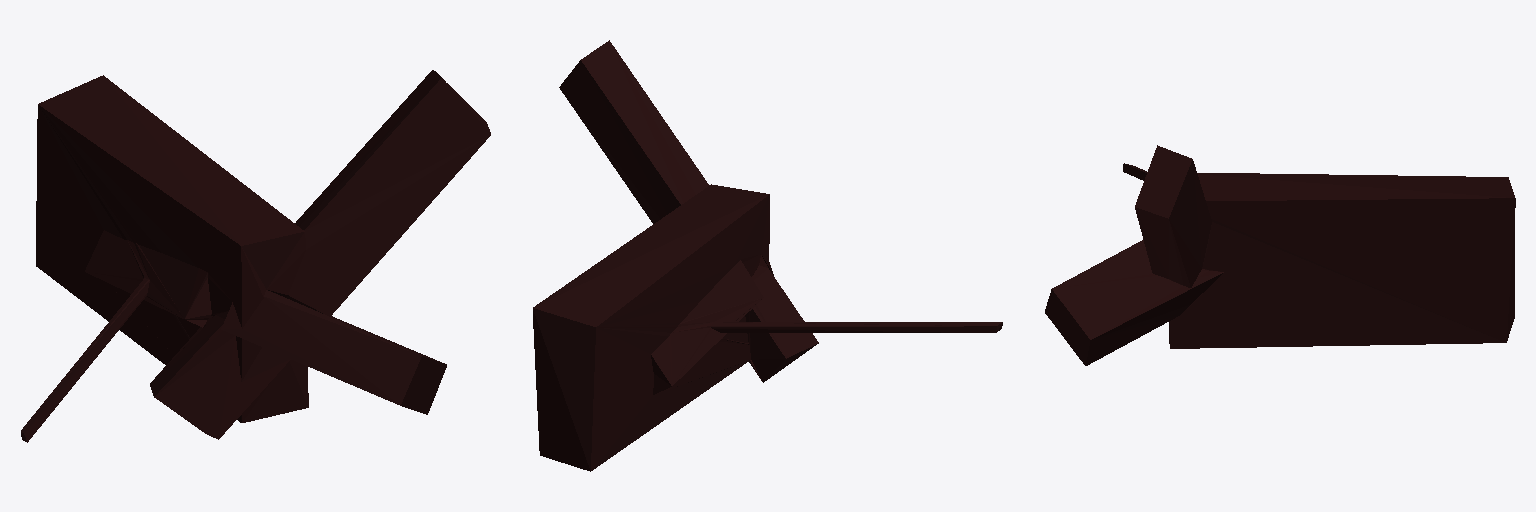
URDF robot description (blob195):

<robot name="blob195">
  <link name="random_obj_195">
    <contact>
      <lateral_friction value="1.0"/>
      <rolling_friction value="0.0"/>
      <inertia_scaling value="3.0"/>
      <contact_cfm value="0.0"/>
      <contact_erp value="1.0"/>
    </contact>
    <inertial>
      <origin rpy="0 0 0" xyz="0 0 0"/>
      <mass value="0.0495"/>
      <inertia ixx="1" ixy="0" ixz="0" iyy="1" iyz="0" izz="0"/>
    </inertial>
    <visual>
      <origin rpy="0 0 0" xyz="0 0 0"/>
      <geometry>
        <mesh filename="195.obj" scale="0.0078 0.0078 0.0078"/>
      </geometry>
      <material name="blockmat">
        <color rgba="0.18 0.09 0.09 1"/>
      </material>
    </visual>
    <collision>
      <origin rpy="0 0 0" xyz="0 0 0"/>
      <geometry>
        <mesh filename="195_coll.obj" scale="0.0078 0.0078 0.0078"/>
      </geometry>
    </collision>
  </link>
</robot>

--- Render facts (derived) ---
Views: 3 orthographic renders of the robot side by side, from view 1: azimuth 30°, elevation 25°; view 2: azimuth 150°, elevation 25°; view 3: azimuth 270°, elevation 25°.
Model blob195 with 1 links and 0 joints (none), rooted at random_obj_195, posed all joints at 0.
Links seen in each view (by area): view 1: random_obj_195; view 2: random_obj_195; view 3: random_obj_195.
Boxes of the visible links, bbox=[...] form: random_obj_195: bbox=[21, 70, 490, 442]; random_obj_195: bbox=[533, 40, 1002, 471]; random_obj_195: bbox=[1045, 145, 1515, 365].
Bounding box of the posed robot: 0.1261 × 0.1256 × 0.0805 m (x, y, z).
Meshes: 1 distinct files referenced, 1 mesh visuals loaded (1 OBJ).
